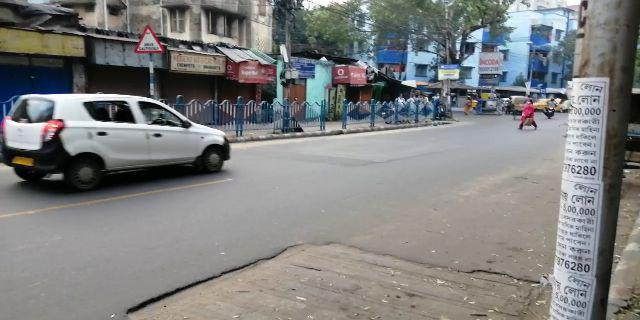Car: (3, 95, 230, 193)
